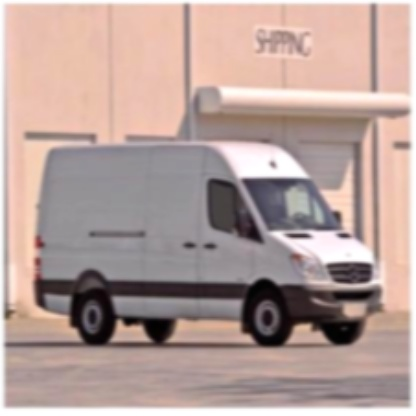Vehicle: (32, 136, 387, 346)
